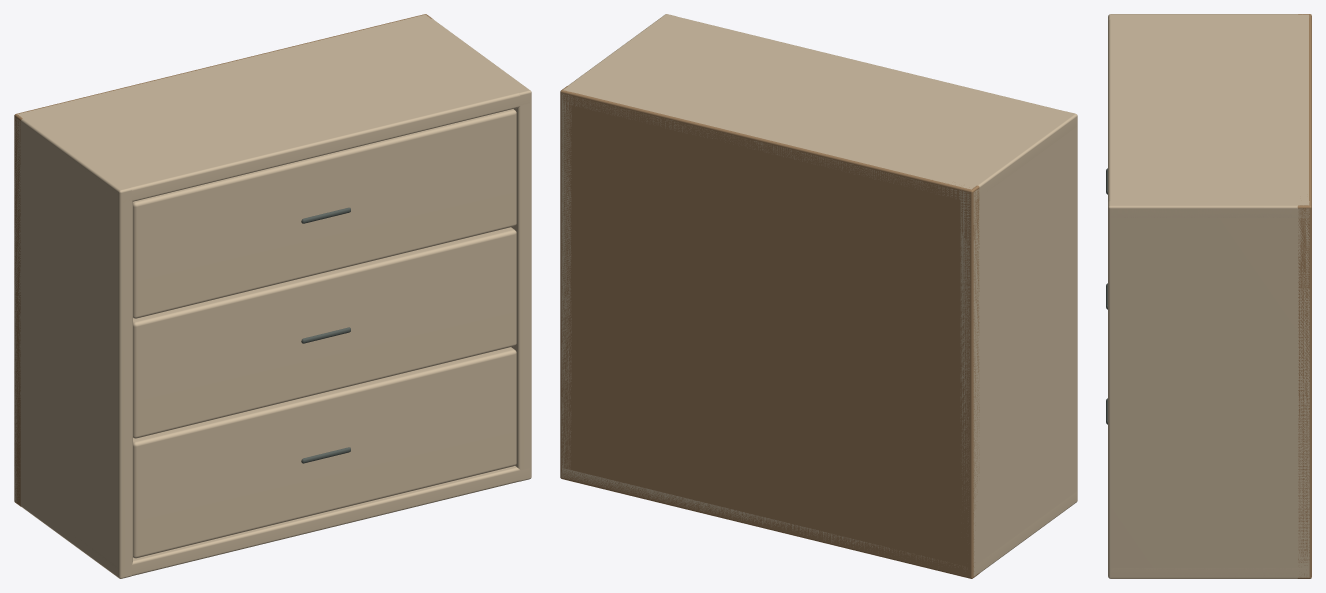
The picture shows the model from 3 angles, left to right: view 1: azimuth 30°, elevation 25°; view 2: azimuth 150°, elevation 25°; view 3: azimuth 270°, elevation 25°; orthographic projection. The views are drawn at different scales.
Parts seen in each view (by area): view 1: top, front_1_0, front_0_0, side_-1, front_2_0, bottom, side_1, back; view 2: back, top, side_-1, side_1, bottom; view 3: side_1, top, back, bottom.
Part boxes in pixels (left/top/right/bottom): top: left=17, top=14, right=529, bottom=202; front_1_0: left=133, top=227, right=516, bottom=438; front_0_0: left=133, top=347, right=516, bottom=558; side_-1: left=14, top=114, right=132, bottom=578; front_2_0: left=133, top=109, right=516, bottom=318; bottom: left=22, top=466, right=529, bottom=575; side_1: left=425, top=14, right=531, bottom=481; back: left=14, top=14, right=432, bottom=506; back: left=560, top=85, right=979, bottom=578; top: left=564, top=14, right=1076, bottom=199; side_-1: left=960, top=111, right=1077, bottom=576; side_1: left=561, top=14, right=676, bottom=479; bottom: left=562, top=468, right=1076, bottom=575; side_1: left=1108, top=201, right=1309, bottom=578; top: left=1108, top=14, right=1308, bottom=217; back: left=1297, top=14, right=1311, bottom=578; bottom: left=1111, top=568, right=1308, bottom=576.
Size of the model in its own units: 1 by 0.9 by 0.45.
